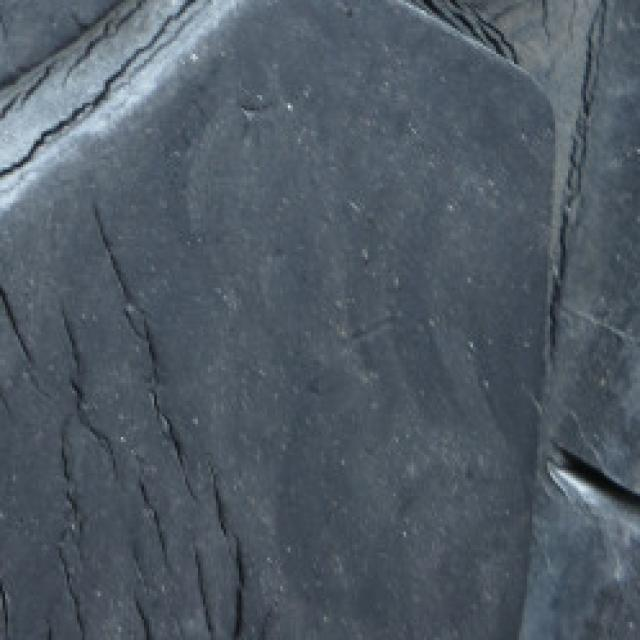Cracks: (0, 0, 290, 637), (396, 0, 637, 399)
